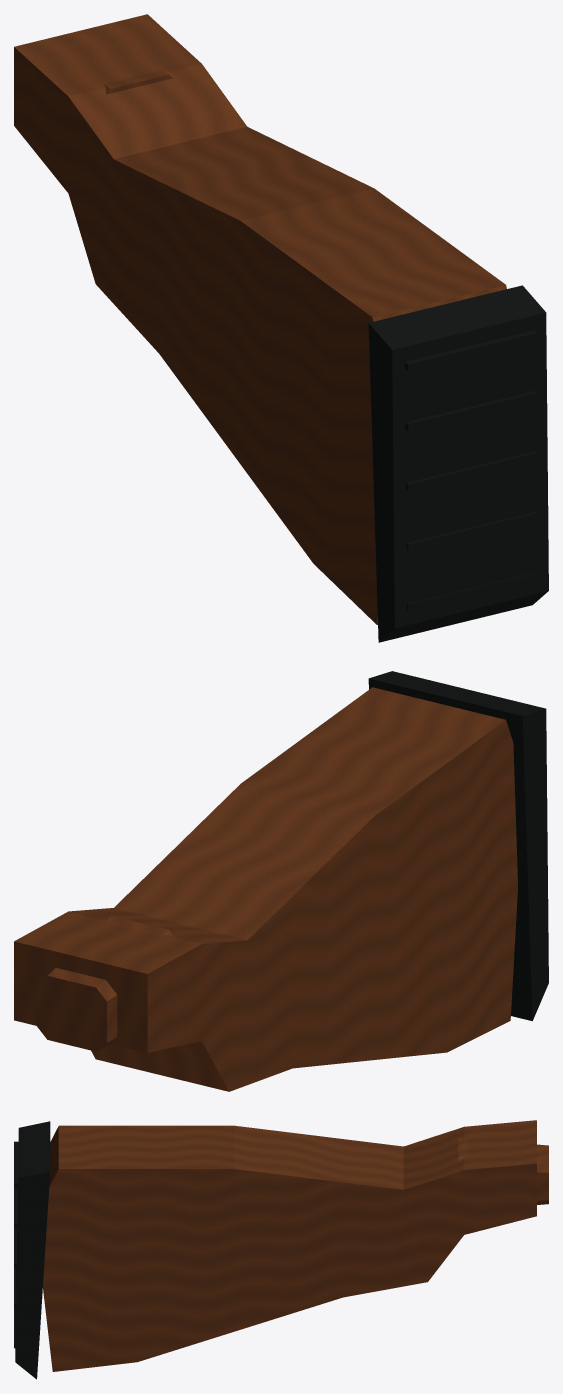
The model's file is sg_stock.glb.
The picture shows the model from 3 angles, top to bottom: view 1: azimuth 30°, elevation 25°; view 2: azimuth 150°, elevation 25°; view 3: azimuth 270°, elevation 25°; orthographic projection. The views are drawn at different scales.
Parts seen in each view (by area): view 1: stock__sg_stock_LOD0_RAID_Secondary_Original_wood, stock__sg_stock_LOD0_RAID_Secondary_Original_rubber, stock__sg_stock_LOD1_RAID_Secondary_Original_rubber, stock__sg_stock_LOD1_RAID_Secondary_Original_wood; view 2: stock__sg_stock_LOD0_RAID_Secondary_Original_wood, stock__sg_stock_LOD1_RAID_Secondary_Original_wood, stock__sg_stock_LOD0_RAID_Secondary_Original_rubber, stock__sg_stock_LOD1_RAID_Secondary_Original_rubber; view 3: stock__sg_stock_LOD1_RAID_Secondary_Original_wood, stock__sg_stock_LOD0_RAID_Secondary_Original_wood, stock__sg_stock_LOD0_RAID_Secondary_Original_rubber, stock__sg_stock_LOD1_RAID_Secondary_Original_rubber.
Part boxes in pixels (bbox=[...]): stock__sg_stock_LOD0_RAID_Secondary_Original_wood: bbox=[16, 19, 497, 618]; stock__sg_stock_LOD0_RAID_Secondary_Original_rubber: bbox=[369, 287, 546, 640]; stock__sg_stock_LOD1_RAID_Secondary_Original_rubber: bbox=[368, 285, 548, 642]; stock__sg_stock_LOD1_RAID_Secondary_Original_wood: bbox=[14, 14, 506, 624]; stock__sg_stock_LOD0_RAID_Secondary_Original_wood: bbox=[18, 690, 516, 1085]; stock__sg_stock_LOD1_RAID_Secondary_Original_wood: bbox=[14, 687, 517, 1091]; stock__sg_stock_LOD0_RAID_Secondary_Original_rubber: bbox=[371, 672, 547, 1017]; stock__sg_stock_LOD1_RAID_Secondary_Original_rubber: bbox=[368, 671, 548, 1021]; stock__sg_stock_LOD1_RAID_Secondary_Original_wood: bbox=[43, 1120, 536, 1371]; stock__sg_stock_LOD0_RAID_Secondary_Original_wood: bbox=[43, 1128, 548, 1345]; stock__sg_stock_LOD0_RAID_Secondary_Original_rubber: bbox=[14, 1122, 49, 1376]; stock__sg_stock_LOD1_RAID_Secondary_Original_rubber: bbox=[15, 1121, 50, 1379].
Bounding box in the file's own units: 0.098 × 0.194 × 0.442.
2 materials, 2 textured.
